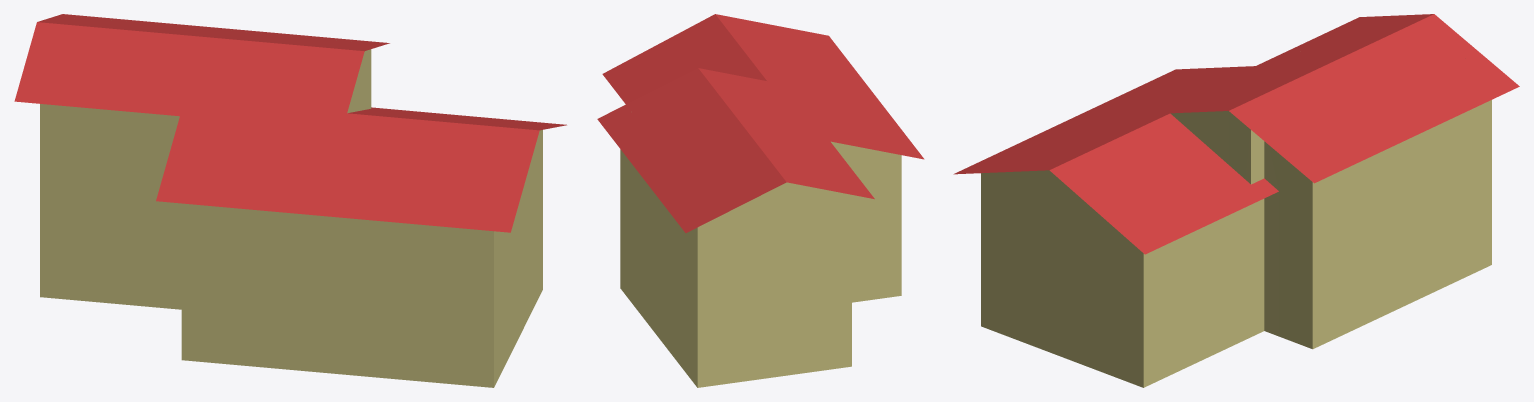
The picture shows the model from 3 angles, left to right: view 1: azimuth 30°, elevation 25°; view 2: azimuth 150°, elevation 25°; view 3: azimuth 270°, elevation 25°; orthographic projection. The views are drawn at different scales.
Parts seen in each view (by area): view 1: group_5, group_3, group_9, group_4, group_7; view 2: group_5, group_3, group_7, group_4; view 3: group_5, group_3, group_9, group_7, group_4, group_8.
Boxes of the visible parts, left/top/right/bottom form: group_5: left=40, top=49, right=518, bottom=387; group_3: left=14, top=17, right=539, bottom=232; group_9: left=518, top=130, right=542, bottom=337; group_4: left=37, top=14, right=389, bottom=120; group_7: left=348, top=107, right=566, bottom=130; group_5: left=620, top=141, right=901, bottom=387; group_3: left=599, top=14, right=924, bottom=216; group_7: left=602, top=14, right=766, bottom=104; group_4: left=597, top=90, right=831, bottom=232; group_5: left=981, top=100, right=1491, bottom=356; group_3: left=953, top=14, right=1491, bottom=181; group_9: left=1062, top=182, right=1250, bottom=387; group_7: left=1049, top=113, right=1278, bottom=254; group_4: left=1241, top=14, right=1519, bottom=183; group_8: left=1052, top=167, right=1144, bottom=253.
Bounding box in the file's own units: 17.49 × 21.34 × 9.05.
